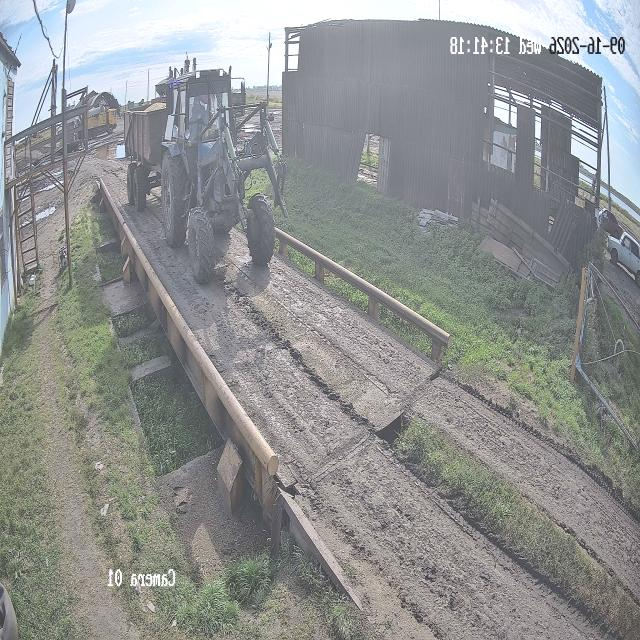trailer: (124, 103, 167, 210)
truck: (166, 74, 267, 261), (88, 105, 118, 138), (186, 61, 188, 67), (236, 100, 238, 101), (175, 74, 175, 75)
